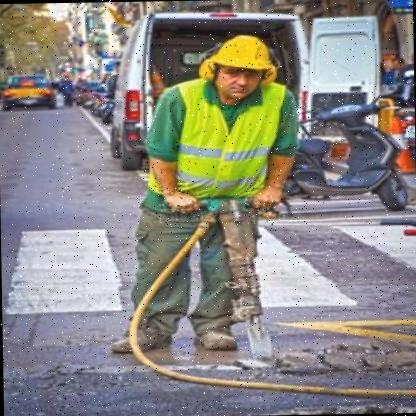bota: (110, 296, 176, 353), (186, 297, 236, 350)
capacete: (198, 34, 275, 99)
